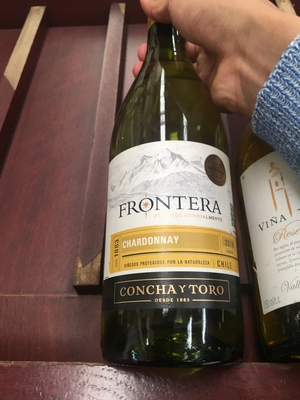frontera chardonnay: (102, 40, 245, 375)
